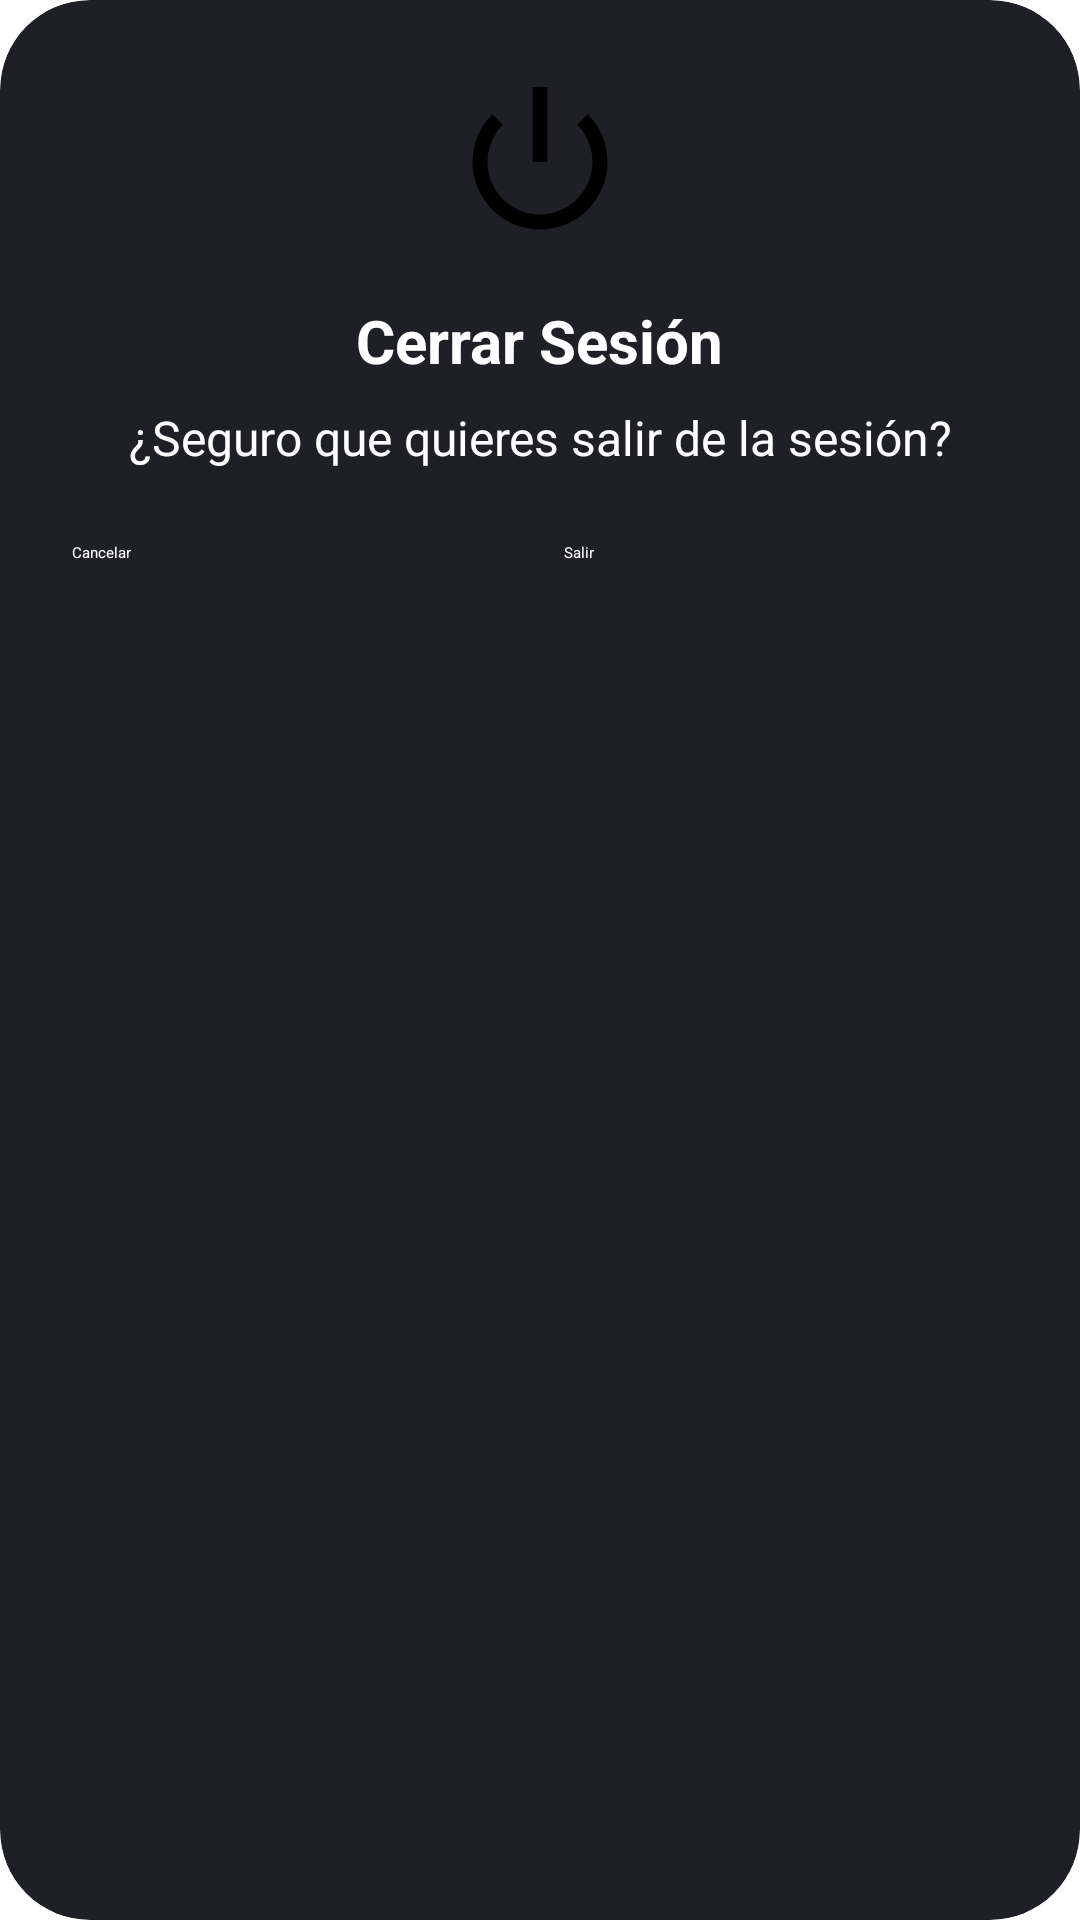

Icon bounding boxes for this 1080x1920 phone screenshot, format BBox(x1, y1, x2, y2):
lock power off: BBox(473, 87, 607, 229)
